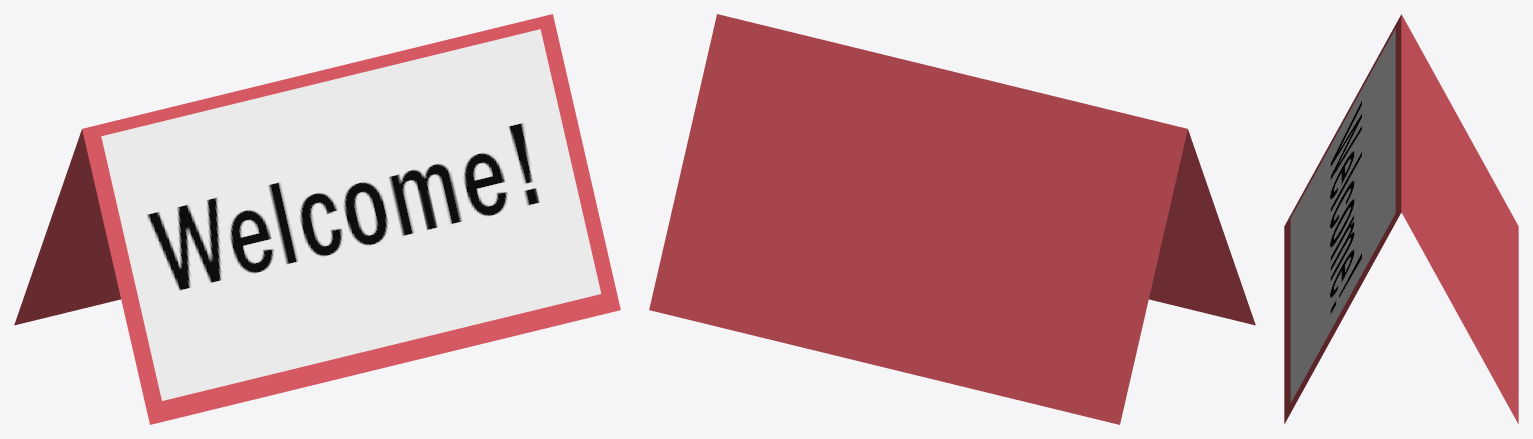
Rendered from welcome-sign.glb.
The picture shows the model from 3 angles, left to right: view 1: azimuth 30°, elevation 25°; view 2: azimuth 150°, elevation 25°; view 3: azimuth 270°, elevation 25°; orthographic projection. The views are drawn at different scales.
Parts seen in each view (by area): view 1: Plane.001, Plane; view 2: Plane; view 3: Plane, Plane.001.
Boxes of the visible parts, x1,y1,x2,y2 form: Plane.001: (101,29,601,400); Plane: (14,14,620,424); Plane: (649,14,1255,424); Plane: (1284,14,1518,423); Plane.001: (1290,28,1395,402).
Bounding box in the file's own units: 4 × 2 × 2.
Materials: 2 (1 with a texture image).
